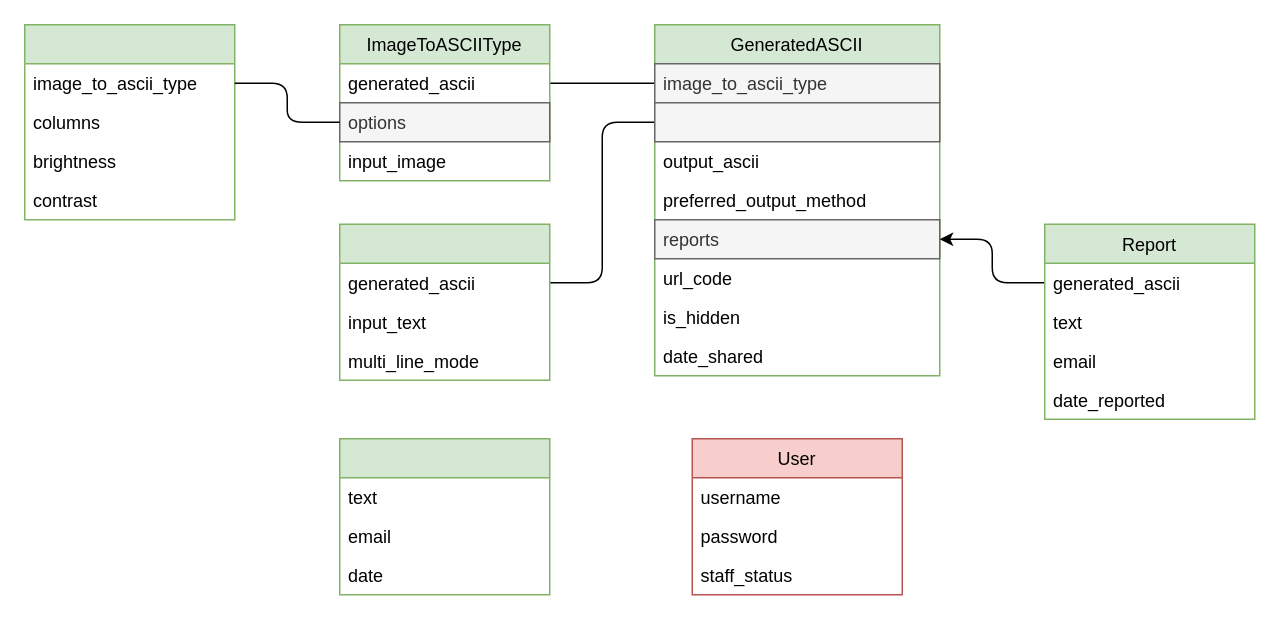
This 1280x620 diagram has some shape labels left out. The box of each missing label's shape, as (x1, y1, x2, y2) in pixels:
Feedback: (338, 437, 550, 595)
ImageToASCIIOptions: (23, 23, 235, 220)
text_to_ascii_type: (653, 101, 940, 142)
TextToASCIIType: (338, 223, 550, 380)
